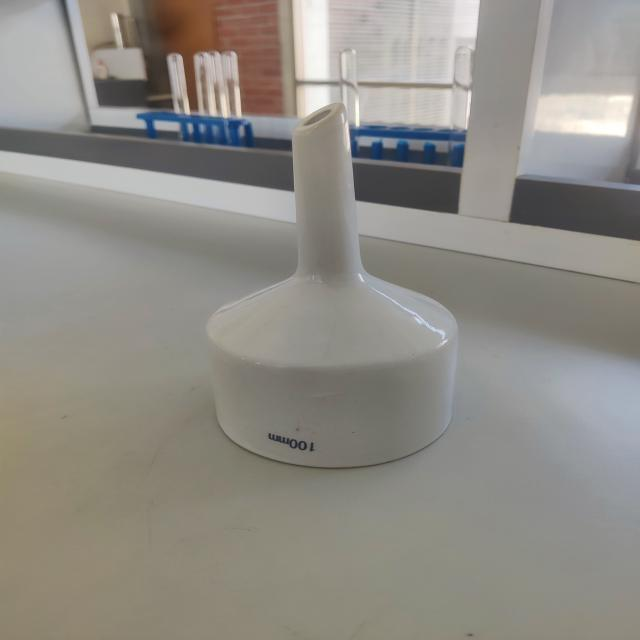Buchner_Funnel: (177, 76, 498, 491)
